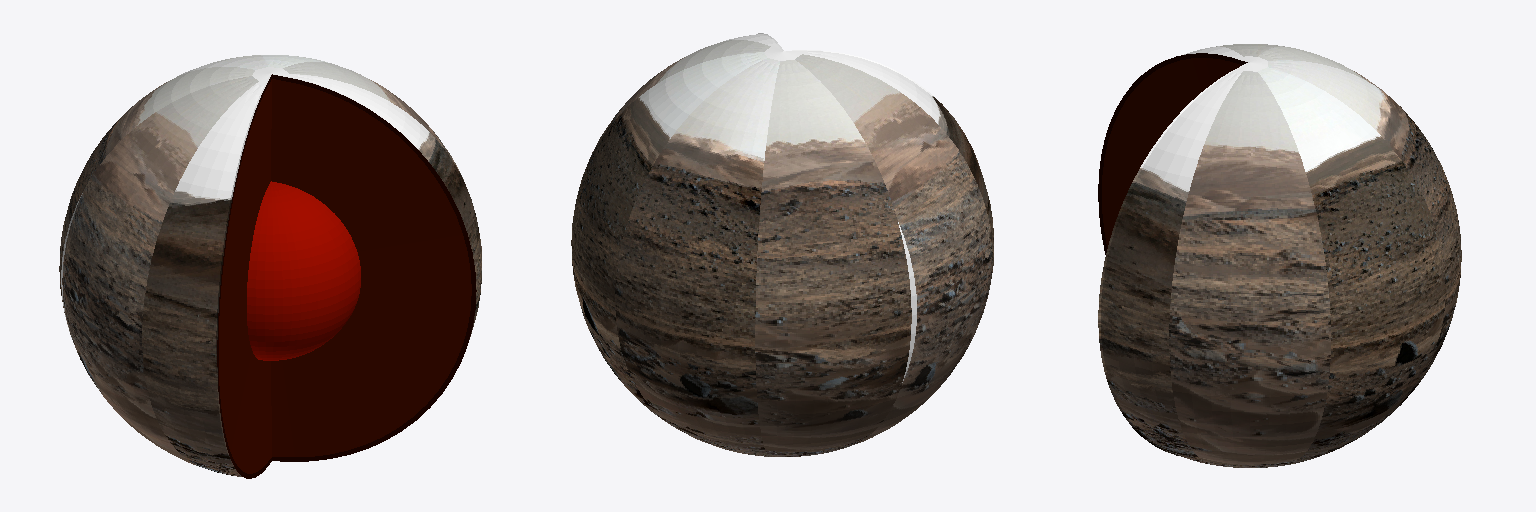
3 renders of one model, left to right at view 1: azimuth 30°, elevation 25°; view 2: azimuth 150°, elevation 25°; view 3: azimuth 270°, elevation 25°, orthographic.
Visible parts, largest first — view 1: Sphere; view 2: Sphere; view 3: Sphere.
Part boxes in pixels (bbox=[...]): Sphere: bbox=[59, 55, 481, 478]; Sphere: bbox=[571, 33, 993, 456]; Sphere: bbox=[1098, 44, 1461, 467].
Bounding box in the file's own units: 6.73 × 6.79 × 5.78.
Materials: 4 (1 with a texture image).